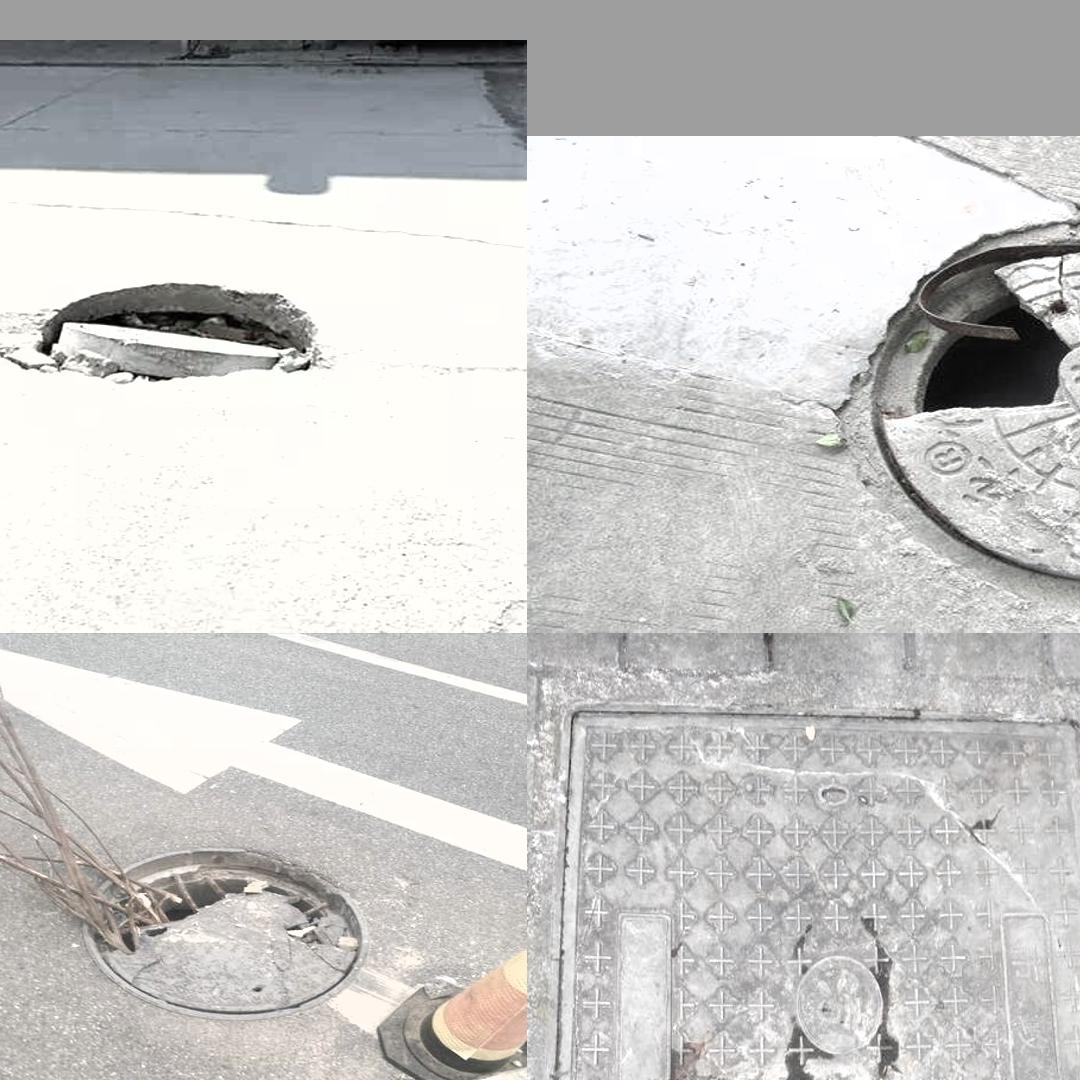broke: (537, 665, 1080, 1080), (829, 207, 1080, 604), (0, 260, 375, 431), (62, 832, 380, 1021)
